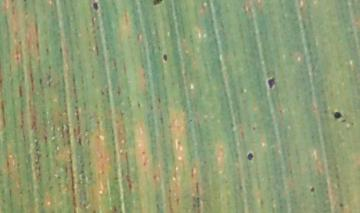tarspot: (93, 39, 100, 58), (17, 83, 25, 99), (267, 76, 276, 90), (151, 1, 165, 8), (333, 111, 343, 120), (246, 151, 254, 162), (115, 84, 122, 96), (91, 2, 99, 12), (258, 196, 264, 209), (57, 44, 64, 55), (37, 75, 44, 86), (147, 102, 154, 112), (162, 52, 168, 63), (76, 135, 82, 146), (238, 86, 245, 95), (42, 134, 49, 143), (44, 46, 50, 56), (309, 185, 315, 194), (46, 62, 52, 71), (14, 54, 21, 61), (338, 201, 344, 209), (99, 88, 105, 96), (156, 95, 162, 103), (251, 125, 257, 132), (16, 39, 22, 46), (136, 101, 141, 109), (90, 208, 97, 213), (22, 1, 27, 3)
